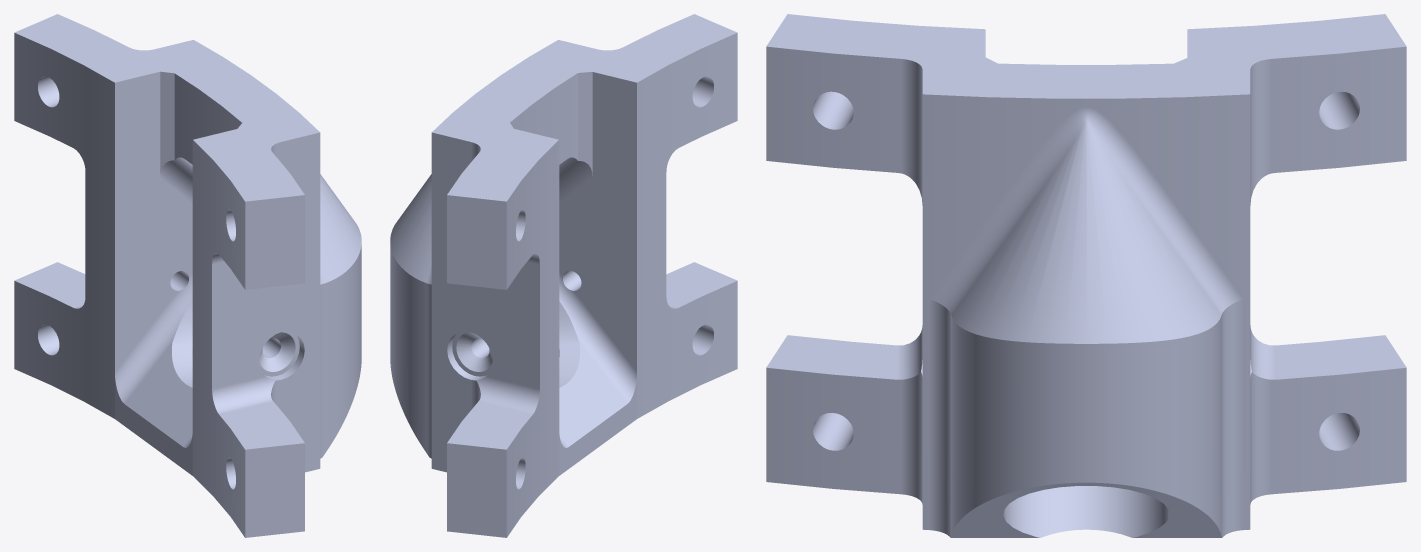
File: DownCam10.glb
The picture shows the model from 3 angles, left to right: view 1: azimuth 30°, elevation 25°; view 2: azimuth 150°, elevation 25°; view 3: azimuth 270°, elevation 25°; orthographic projection. The views are drawn at different scales.
Visible parts, largest first — view 1: Default - Part, Default - Part 2; view 2: Default - Part, Default - Part 2; view 3: Default - Part, Default - Part 2.
Part boxes in pixels (x1,y1,x2,y2): Default - Part: (14,14,361,537); Default - Part 2: (38,76,235,489); Default - Part: (390,14,737,537); Default - Part 2: (516,76,713,489); Default - Part: (766,14,1406,537); Default - Part 2: (813,91,1359,450).
Size of the model in its own units: 0.0257 by 0.0381 by 0.0508.
